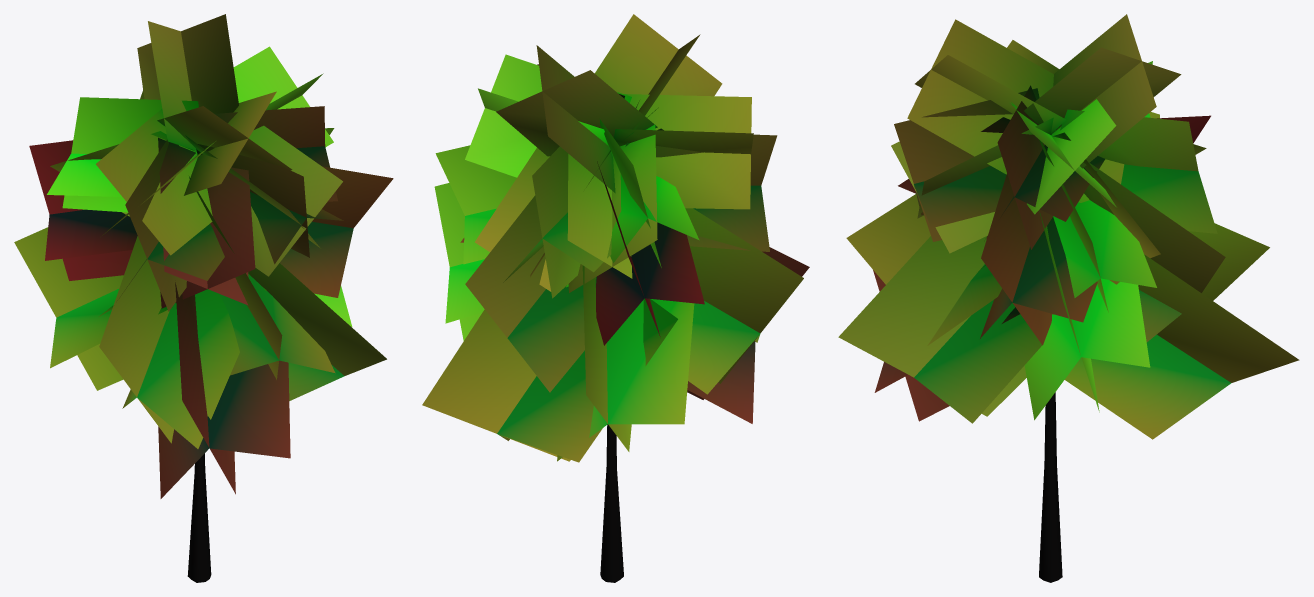
File: Super_11_3.fbx
The picture shows the model from 3 angles, left to right: view 1: azimuth 30°, elevation 25°; view 2: azimuth 150°, elevation 25°; view 3: azimuth 270°, elevation 25°; orthographic projection. The views are drawn at different scales.
Visible parts, largest first — view 1: Super_11_3; view 2: Super_11_3; view 3: Super_11_3.
Boxes of the visible parts, x1,y1,x2,y2 form: Super_11_3: (14,14,393,582); Super_11_3: (422,14,809,582); Super_11_3: (838,14,1299,582).
Bounding box in the file's own units: 1438 × 2322 × 1749.
